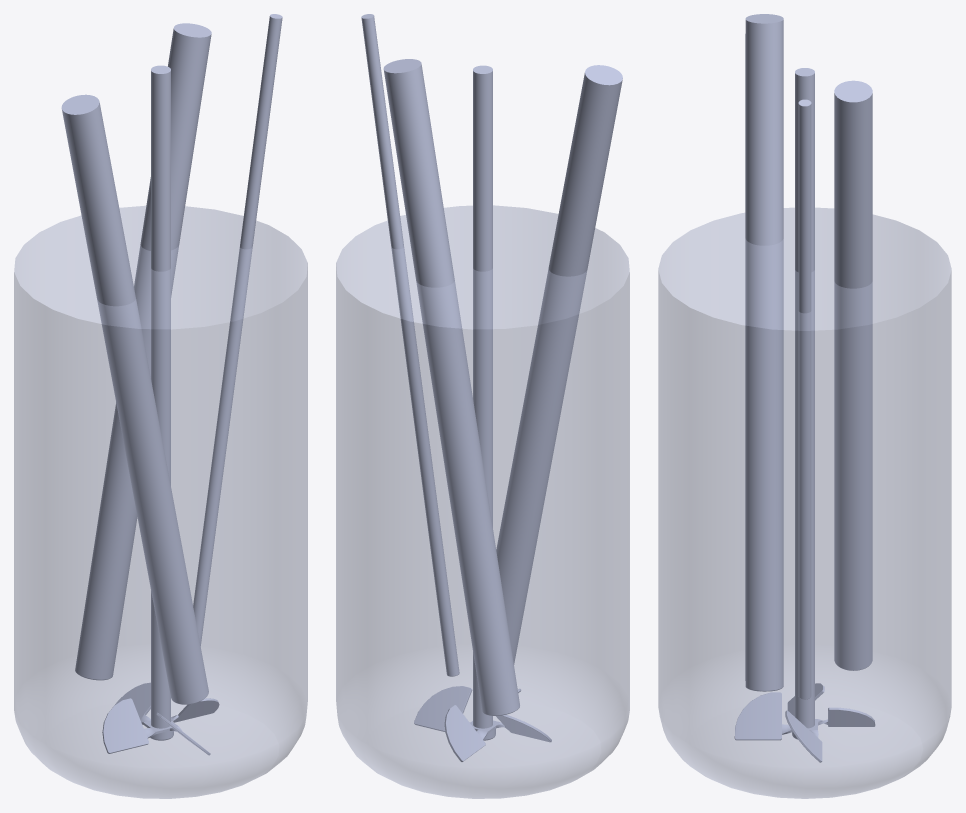
The model's file is TSHO_EasyMax402_3d.glb.
3 views of the same model, side by side, from view 1: azimuth 30°, elevation 25°; view 2: azimuth 150°, elevation 25°; view 3: azimuth 270°, elevation 25° (orthographic).
Visible parts, largest first — view 1: Tank, IR, EasyViewer, Imp Assembly, Tr; view 2: Tank, EasyViewer, IR, Imp Assembly, Tr; view 3: Tank, IR, EasyViewer, Imp Assembly, Tr.
Part boxes in pixels (bbox=[...]): Tank: bbox=[14, 205, 307, 798]; IR: bbox=[61, 94, 208, 704]; EasyViewer: bbox=[75, 23, 211, 680]; Imp Assembly: bbox=[102, 65, 219, 755]; Tr: bbox=[193, 14, 282, 645]; Tank: bbox=[336, 205, 629, 798]; EasyViewer: bbox=[383, 59, 519, 715]; IR: bbox=[496, 65, 622, 664]; Imp Assembly: bbox=[414, 65, 551, 761]; Tr: bbox=[361, 14, 459, 676]; Tank: bbox=[658, 207, 951, 798]; IR: bbox=[745, 14, 783, 691]; EasyViewer: bbox=[834, 80, 872, 670]; Imp Assembly: bbox=[734, 68, 875, 762]; Tr: bbox=[798, 99, 811, 699].
Bounding box in the file's own units: 0.0726 × 0.1971 × 0.0726.
